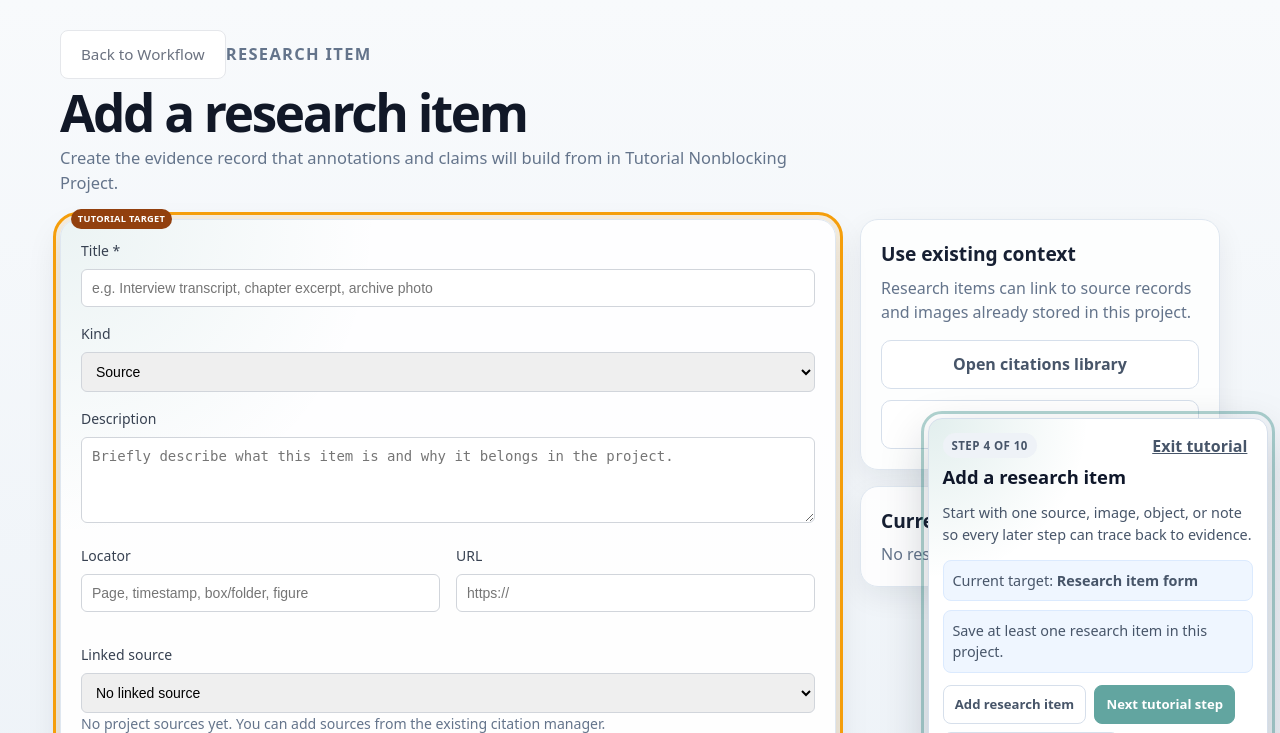
Test: tutorial does not prevent normal workflow completion
The width and height of the screenshot is (1280, 733).
Step 1. Type "Tutorial evidence item" into the field labelled "Title *" → (448, 288), box [81,269,815,307]
(page scrolled)
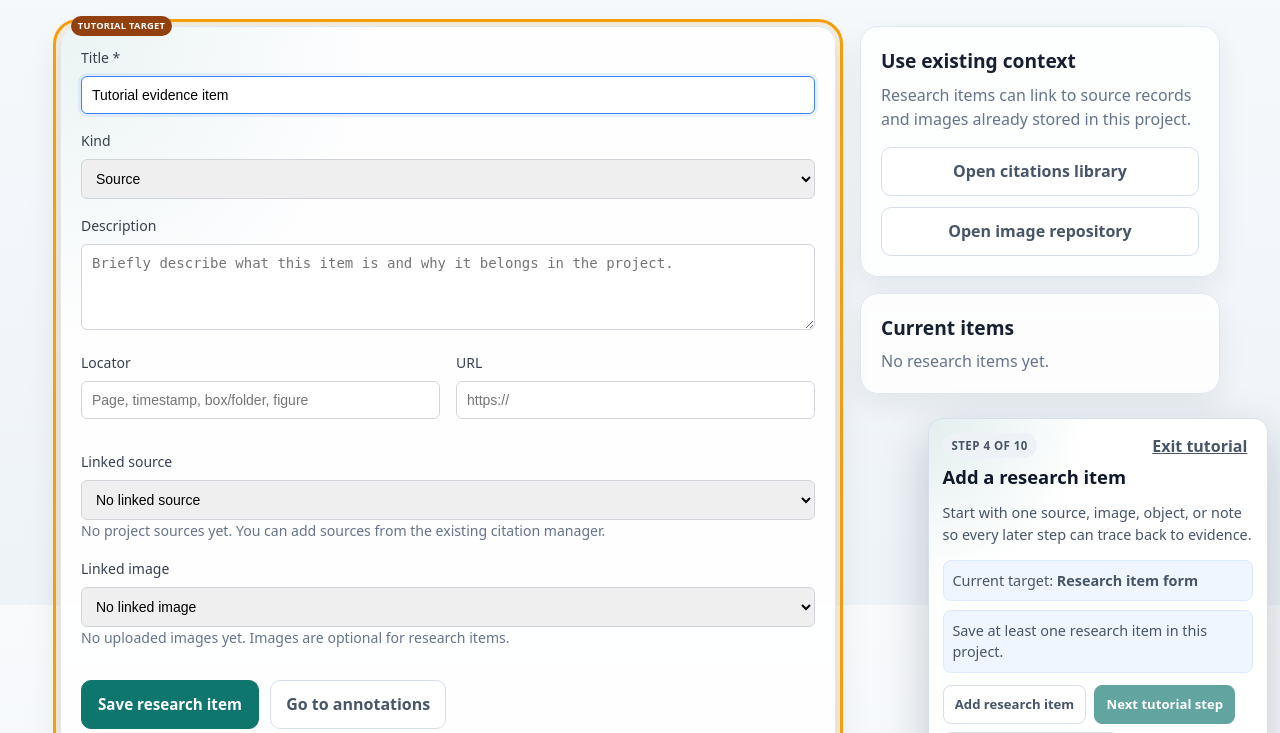
Step 2. Click the button "Save research item" → (170, 704), box [81,680,259,729]
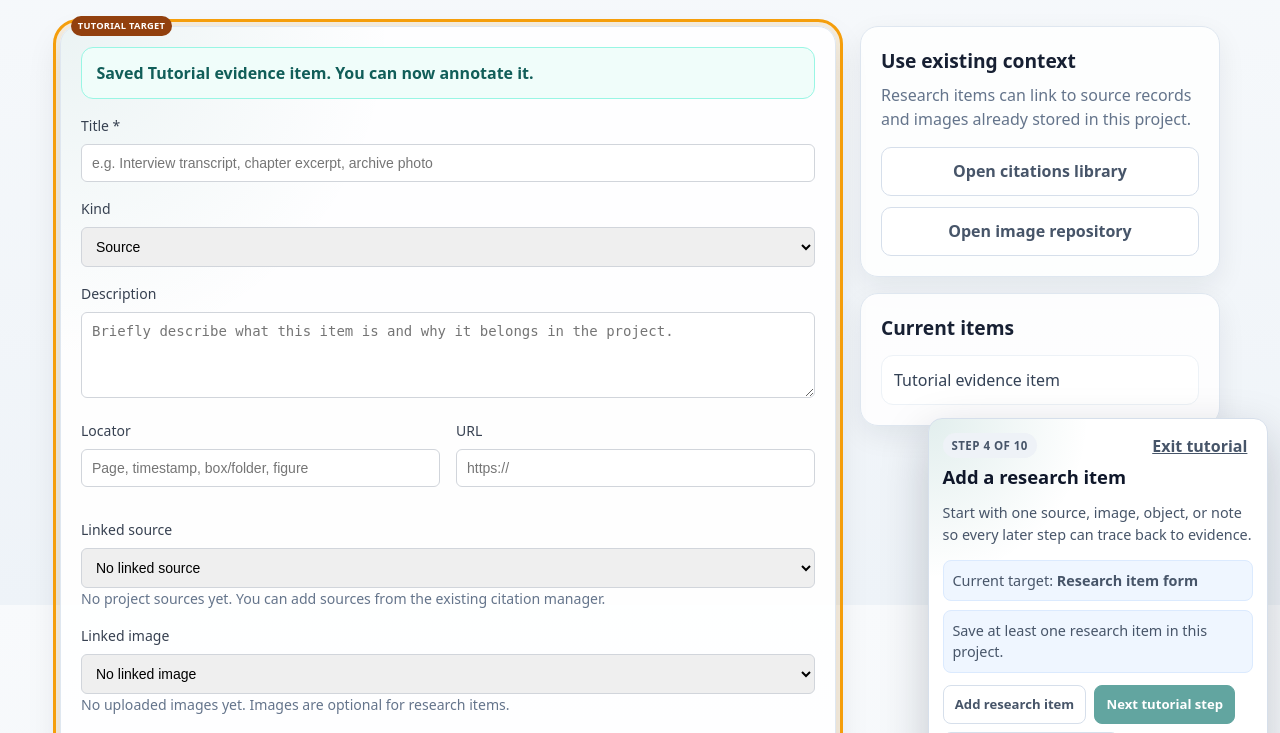
Expected: the message shows "Saved Tutorial evidence item", [81,47,815,99]
